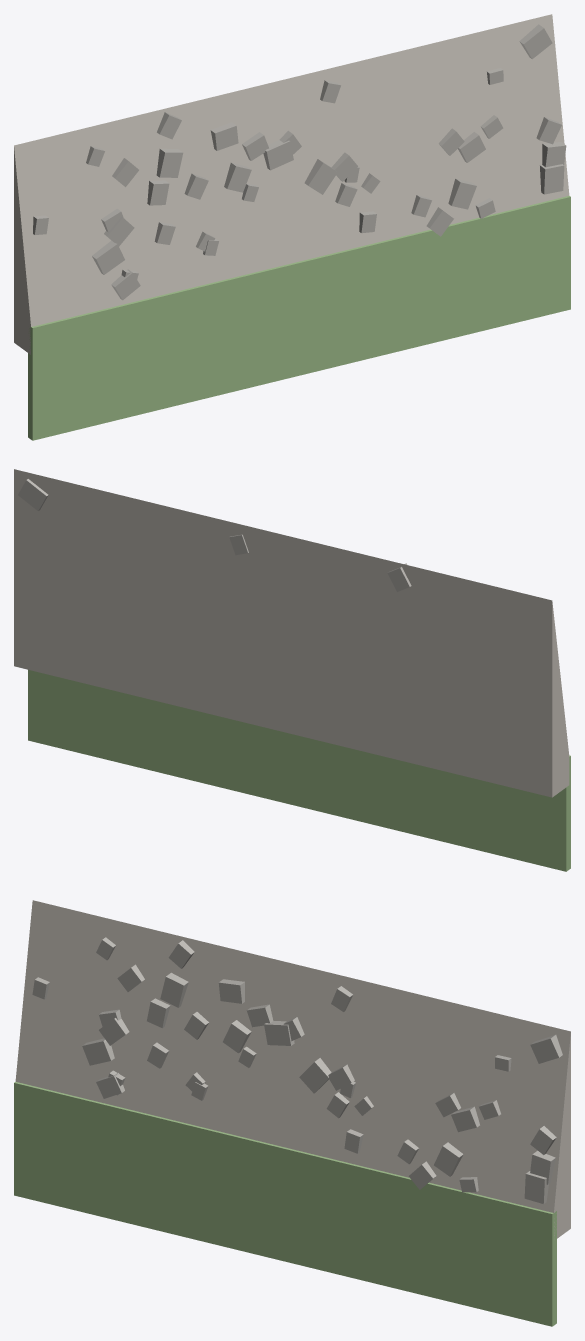
File: r-146-twentekanaal-riprap-bank.glb
The picture shows the model from 3 angles, top to bottom: view 1: azimuth 30°, elevation 25°; view 2: azimuth 150°, elevation 25°; view 3: azimuth 330°, elevation 25°; orthographic projection.
Visible parts, largest first — view 1: stone-slope, grass-top, riprap-boulders; view 2: stone-slope, grass-top, riprap-boulders; view 3: stone-slope, grass-top, riprap-boulders.
Part boxes in pixels (<box>): stone-slope: <box>14,14,569,354</box>; grass-top: <box>28,195,570,440</box>; riprap-boulders: <box>33,24,566,300</box>; stone-slope: <box>14,469,569,797</box>; grass-top: <box>28,669,570,871</box>; riprap-boulders: <box>18,479,411,591</box>; stone-slope: <box>15,900,570,1239</box>; grass-top: <box>14,1081,556,1326</box>; riprap-boulders: <box>32,937,562,1204</box>.
Bounding box in the file's own units: 20000 × 10000 × 1402.
